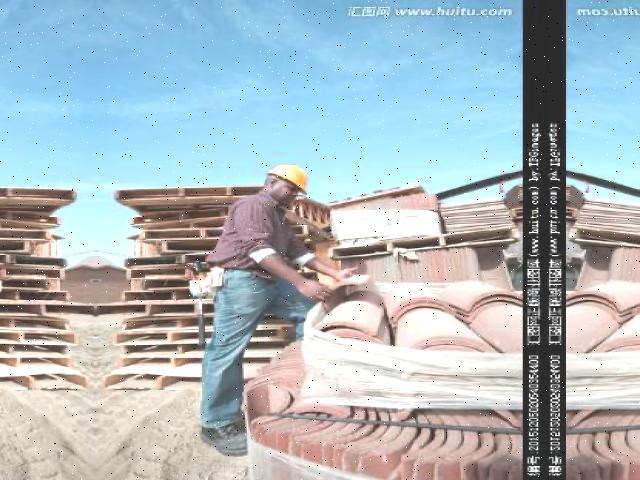Helmet: (259, 161, 311, 200)
